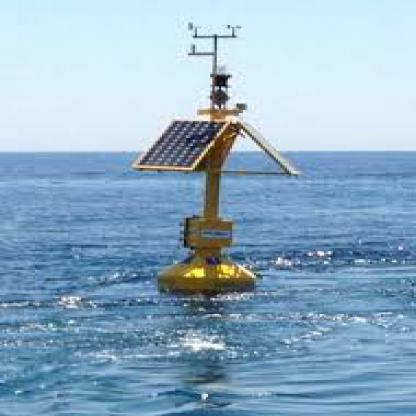buoy: (118, 17, 311, 300)
